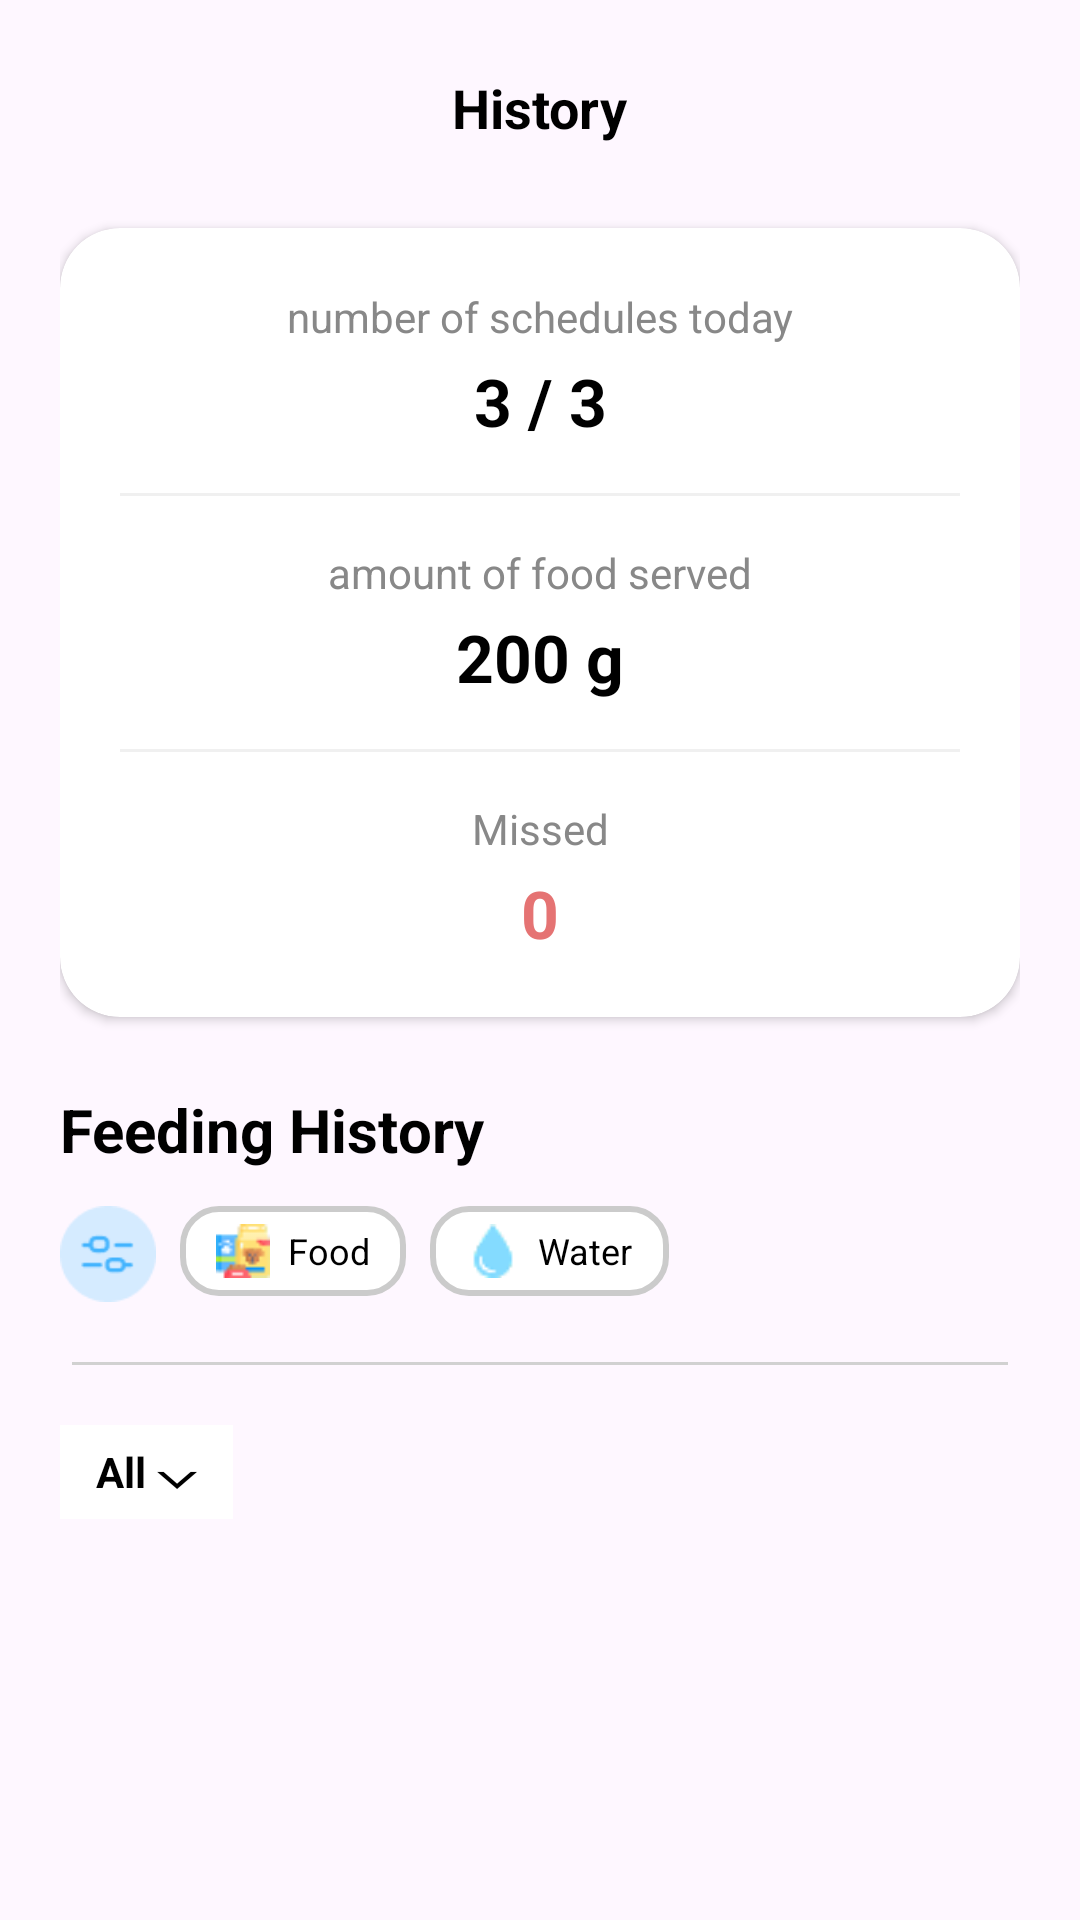

Locate icon controls on the screen. Image size 1080*1920, boxes as (x1, y1, x2, y2).
filter: (60, 1206, 156, 1302)
